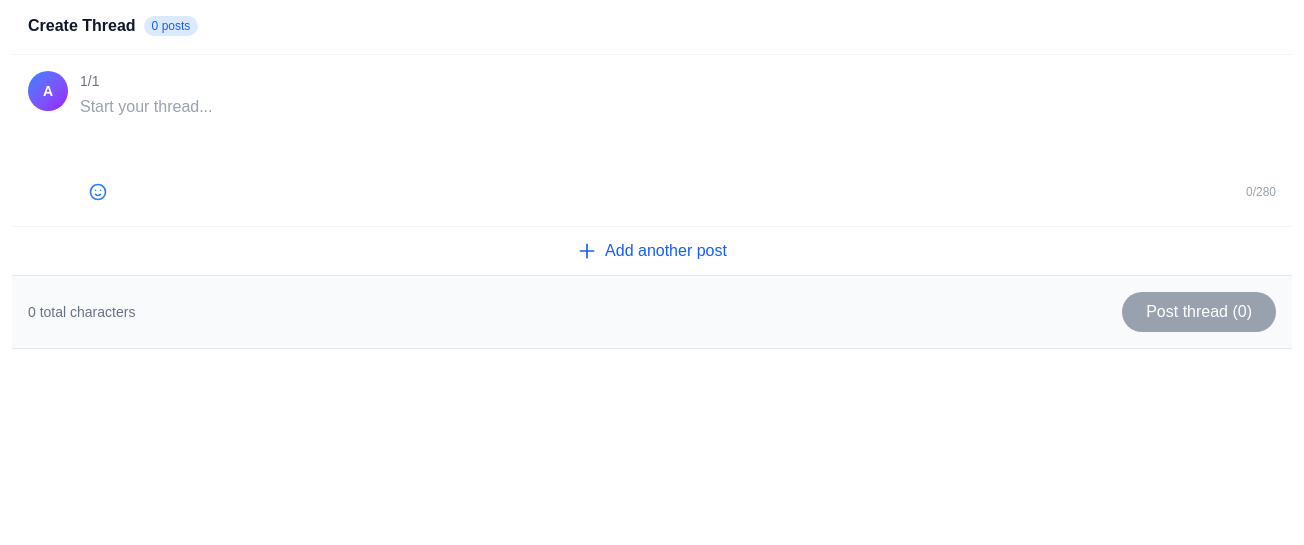
ThreadComposer › add and remove posts › removePost decreases count
Click the button "Add another post": coordinates (652, 250) [12,226,1292,275]
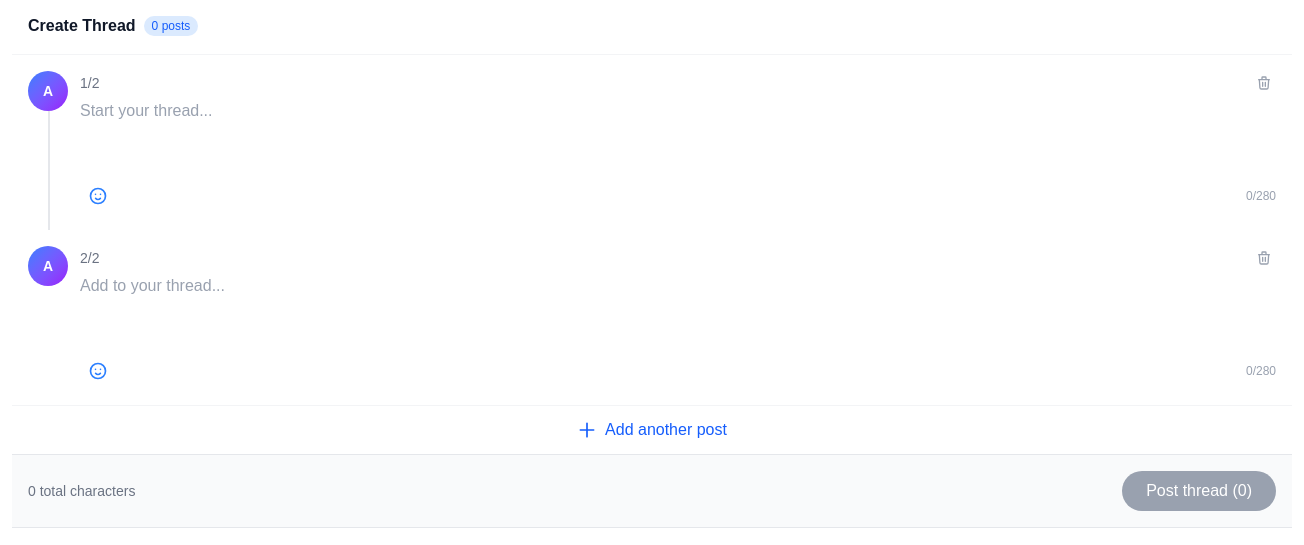
Now the text "2/2" is shown, box [80,248,100,268]
Click the 1st button: coordinates (1264, 83) [1252,71,1276,95]
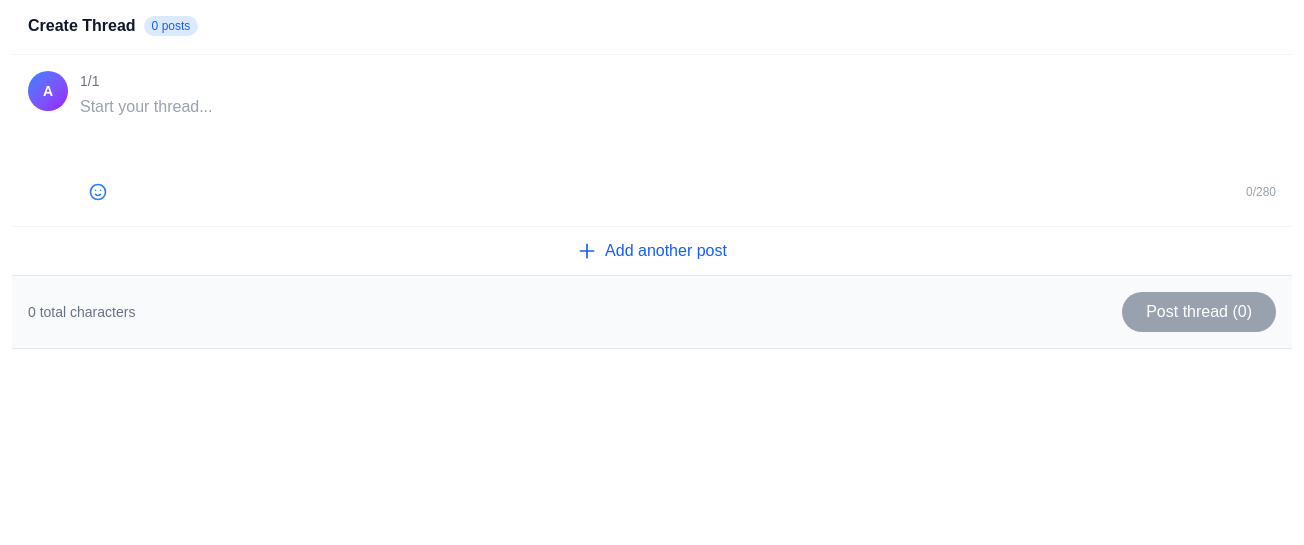
Now the text "1/1" is shown, box [80,71,100,91]
